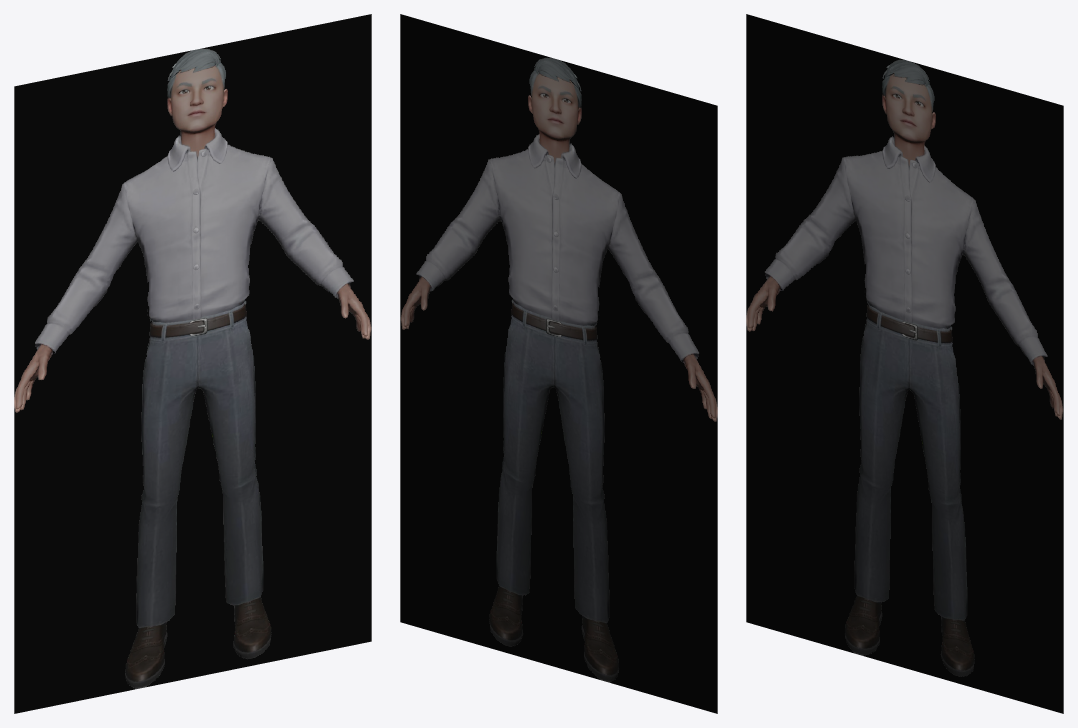
File: planepresi.glb
3 renders of one model, left to right at view 1: azimuth 30°, elevation 25°; view 2: azimuth 150°, elevation 25°; view 3: azimuth 330°, elevation 25°, orthographic. The views are drawn at different scales.
Visible parts, largest first — view 1: IMG_1862; view 2: IMG_1862; view 3: IMG_1862.
Boxes of the visible parts, x1=… form: IMG_1862: x1=14, y1=14, x2=371, y2=713; IMG_1862: x1=400, y1=14, x2=717, y2=713; IMG_1862: x1=746, y1=14, x2=1063, y2=713.
Bounding box in the file's own units: 1.08 × 1.89 × 0.0828.
Materials: 1 (1 with a texture image).
